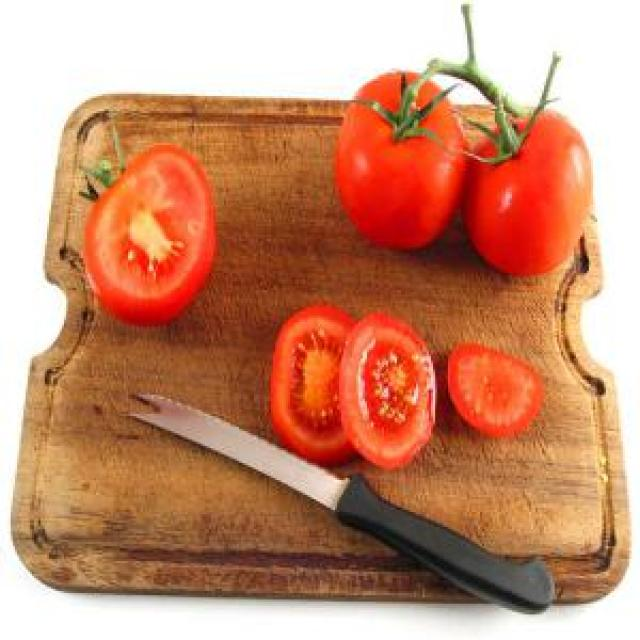knife: (128, 388, 556, 616)
